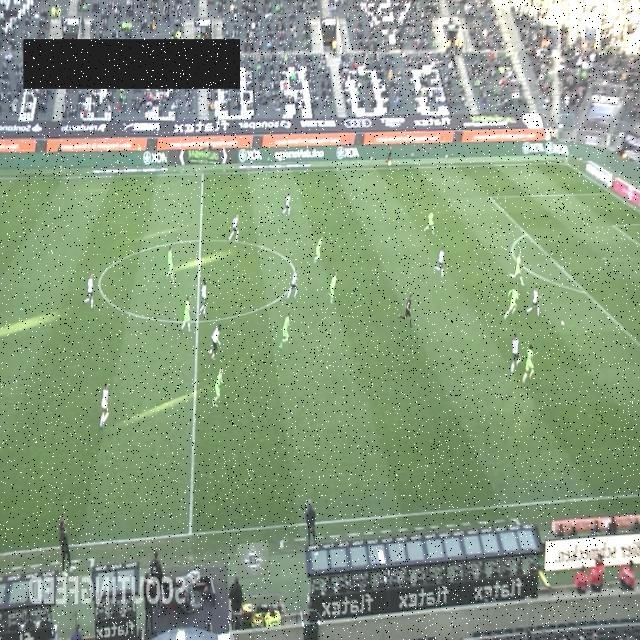Ball: (561, 319, 565, 326)
Corner: (562, 134, 573, 164)
Referee: (397, 293, 413, 329), (386, 146, 392, 166)
TEAM 1: (526, 284, 542, 318), (208, 324, 222, 361), (100, 381, 110, 429), (511, 332, 522, 374), (286, 266, 298, 300), (433, 246, 445, 276), (228, 212, 240, 242), (86, 272, 94, 310), (199, 278, 207, 314), (280, 192, 292, 215)
TEAM 2: (521, 343, 535, 385), (503, 284, 519, 320), (212, 367, 226, 408), (180, 295, 192, 333), (279, 312, 291, 348), (514, 252, 526, 286), (312, 235, 324, 264), (327, 272, 337, 304), (424, 210, 436, 236), (166, 246, 174, 280)
